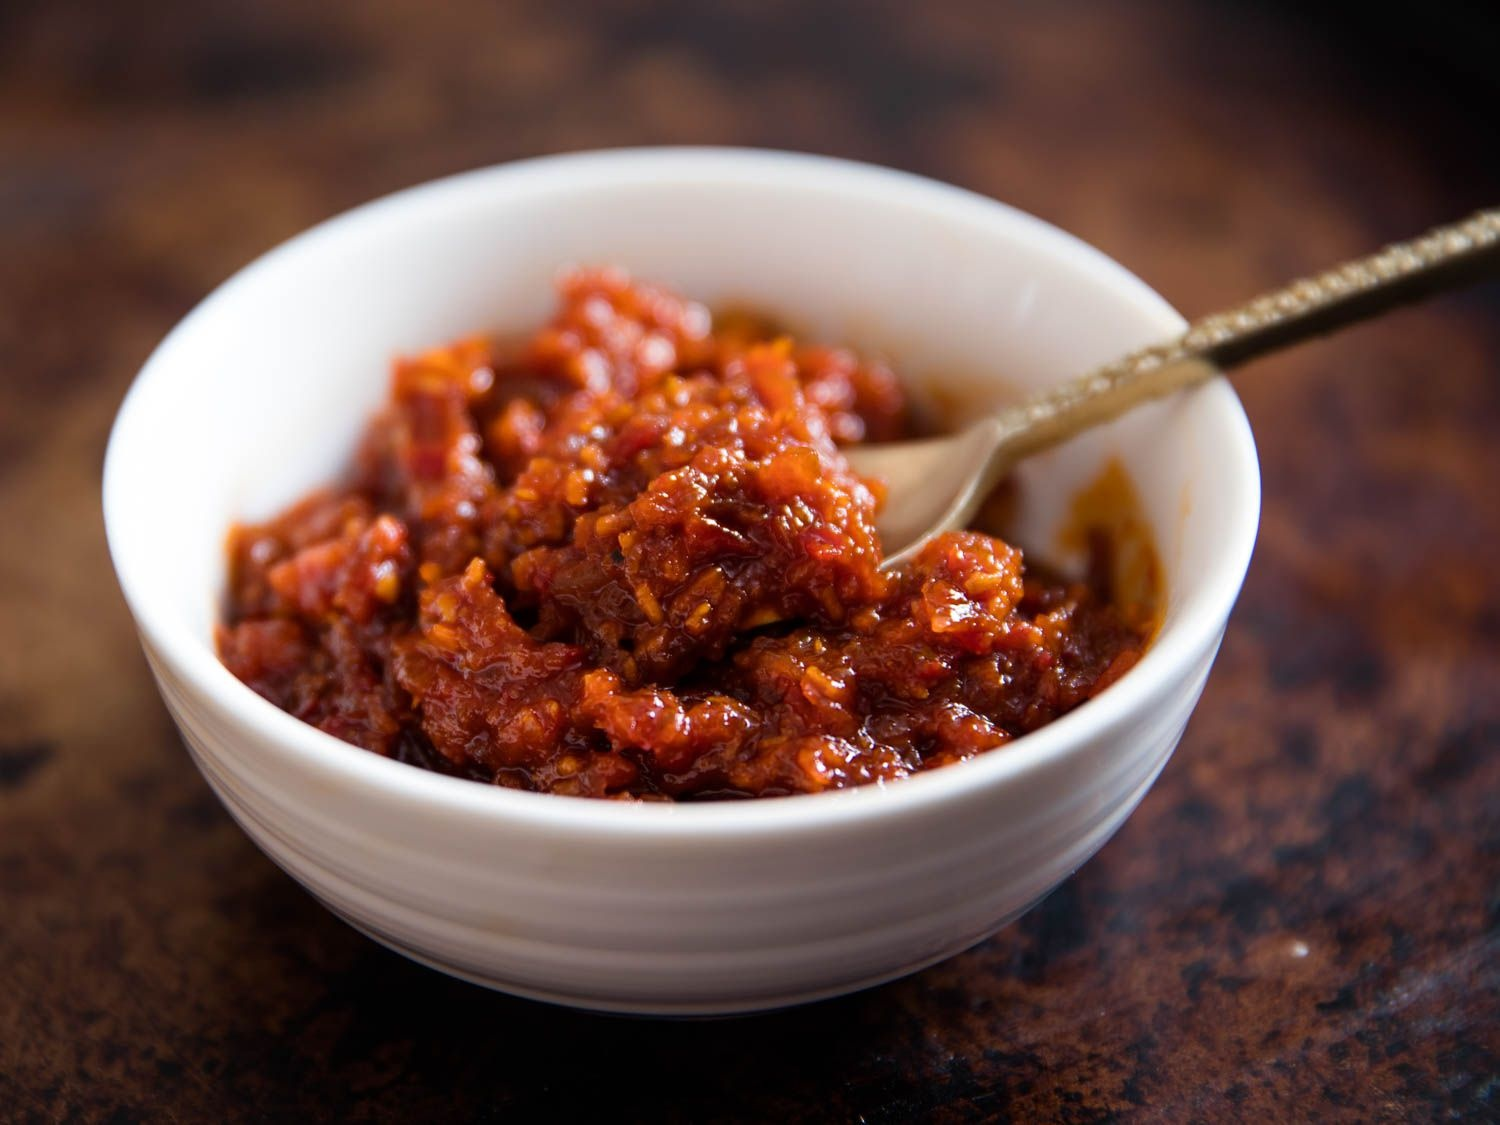sambal: (211, 261, 1102, 804)
